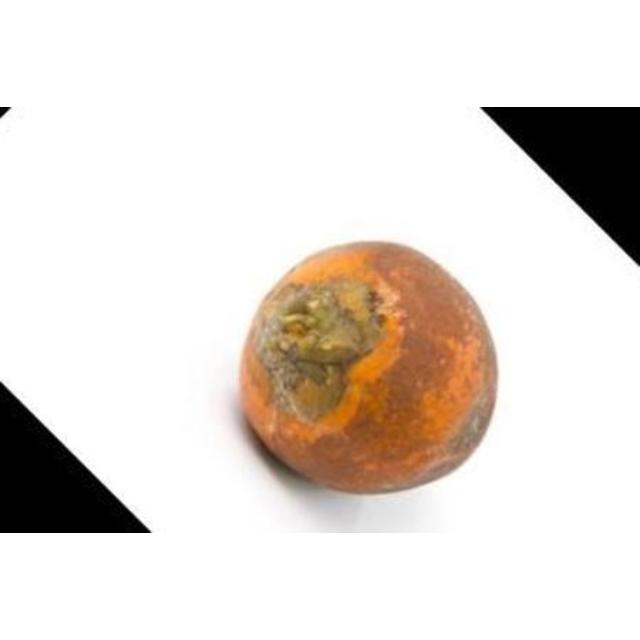good: (240, 242, 498, 495)
